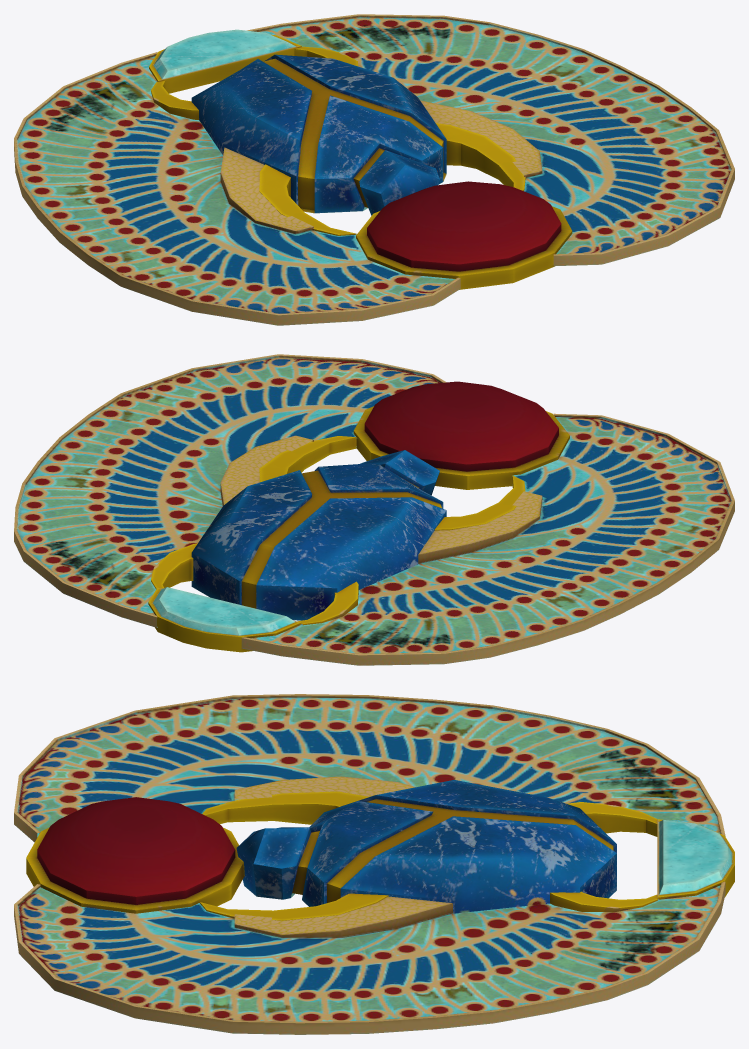
The model's file is scarab.fbx.
3 views of the same model, one above another, from view 1: azimuth 30°, elevation 25°; view 2: azimuth 150°, elevation 25°; view 3: azimuth 270°, elevation 25° (orthographic). The views are drawn at different scales.
Visible parts, largest first — view 1: g pPlane2, g pPlane1, g pCube5, g pCylinder1, g pCube10, g pCube7, g pCube6, g pCube8, g pCube9; view 2: g pPlane2, g pPlane1, g pCube5, g pCylinder1, g pCube10, g pCube7, g pCube6, g pCube9, g pCube8; view 3: g pPlane1, g pPlane2, g pCube5, g pCylinder1, g pCube10, g pCube6, g pCube7, g pCube8, g pCube9.
Boxes of the visible parts, x1=… form: g pPlane2: x1=14, y1=52, x2=460, y2=325; g pPlane1: x1=247, y1=14, x2=734, y2=266; g pCube5: x1=191, y1=54, x2=446, y2=215; g pCylinder1: x1=356, y1=181, x2=572, y2=289; g pCube10: x1=149, y1=29, x2=301, y2=93; g pCube7: x1=435, y1=123, x2=525, y2=190; g pCube6: x1=259, y1=164, x2=356, y2=235; g pCube8: x1=151, y1=80, x2=198, y2=119; g pCube9: x1=294, y1=46, x2=358, y2=66; g pPlane2: x1=241, y1=413, x2=734, y2=665; g pPlane1: x1=14, y1=354, x2=446, y2=627; g pCube5: x1=191, y1=450, x2=446, y2=620; g pCylinder1: x1=353, y1=381, x2=569, y2=489; g pCube10: x1=148, y1=587, x2=301, y2=652; g pCube7: x1=259, y1=436, x2=356, y2=482; g pCube6: x1=434, y1=475, x2=525, y2=530; g pCube9: x1=151, y1=543, x2=197, y2=589; g pCube8: x1=297, y1=581, x2=358, y2=625; g pPlane1: x1=14, y1=881, x2=725, y2=1034; g pPlane2: x1=14, y1=694, x2=725, y2=842; g pCube5: x1=236, y1=780, x2=616, y2=913; g pCylinder1: x1=26, y1=797, x2=244, y2=913; g pCube10: x1=657, y1=819, x2=734, y2=899; g pCube6: x1=202, y1=791, x2=369, y2=824; g pCube7: x1=199, y1=893, x2=388, y2=920; g pCube8: x1=567, y1=802, x2=657, y2=836; g pCube9: x1=550, y1=891, x2=658, y2=911.
Bounding box in the file's own units: 225 × 23.72 × 208.
